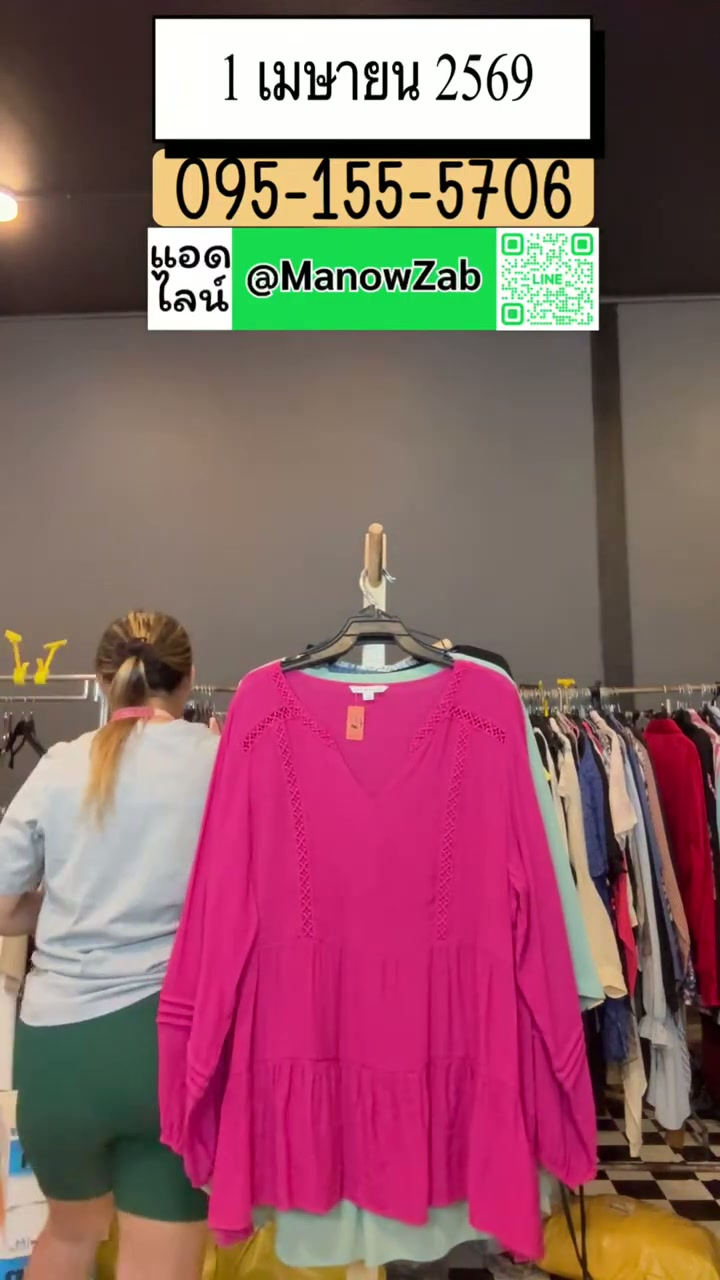display_shirt: (160, 661, 595, 1259)
